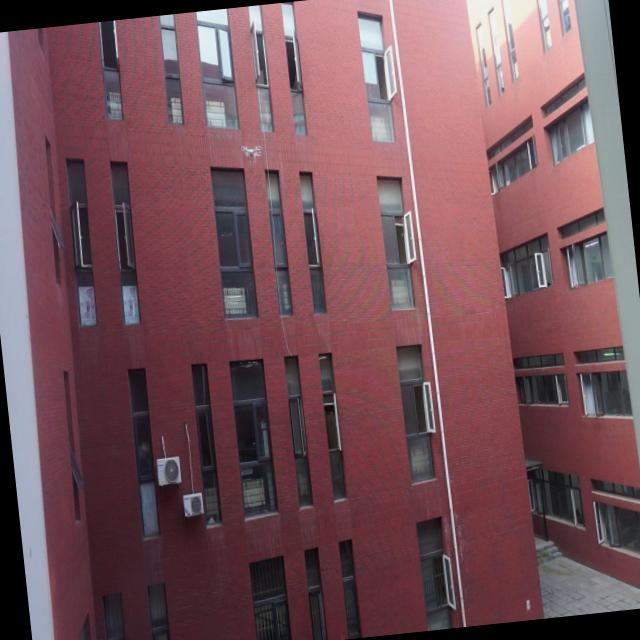drone: (238, 140, 263, 166)
